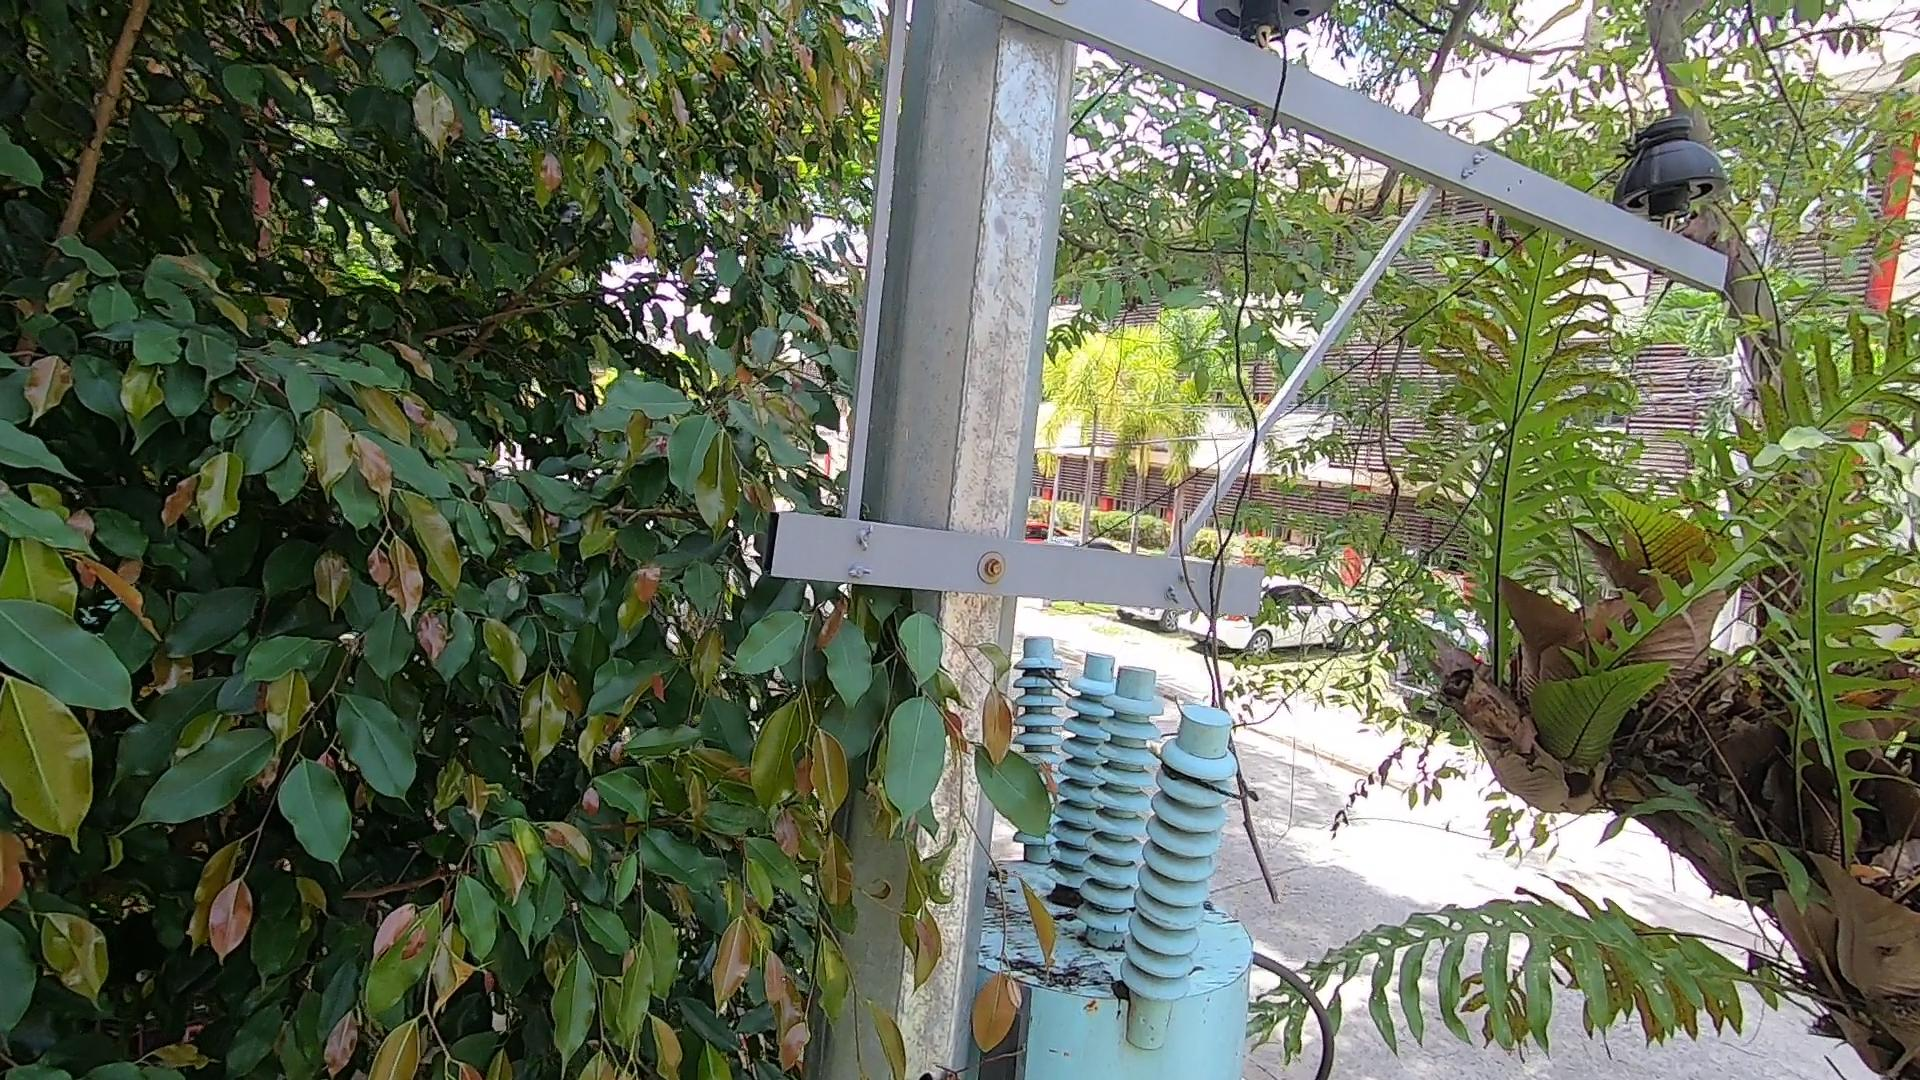tree branch: (1139, 407, 1309, 927)
